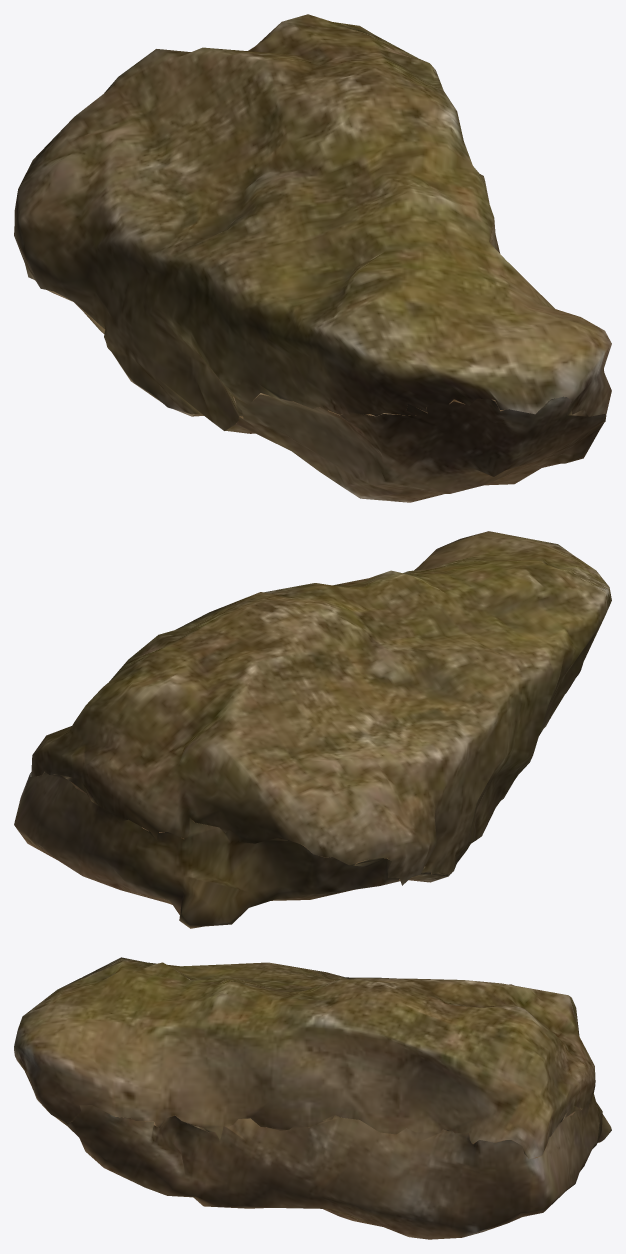
The model's file is rock_moss_set_01_5.glb.
The picture shows the model from 3 angles, top to bottom: view 1: azimuth 30°, elevation 25°; view 2: azimuth 150°, elevation 25°; view 3: azimuth 270°, elevation 25°; orthographic projection. The views are drawn at different scales.
Parts seen in each view (by area): view 1: rock_moss_set_01_rock05; view 2: rock_moss_set_01_rock05; view 3: rock_moss_set_01_rock05.
Boxes of the visible parts, <box> form: rock_moss_set_01_rock05: <box>14,14,611,502</box>; rock_moss_set_01_rock05: <box>14,531,611,928</box>; rock_moss_set_01_rock05: <box>14,957,611,1239</box>.
Bounding box in the file's own units: 1.82 × 1.21 × 2.99.
Materials: 1 (1 with a texture image).
